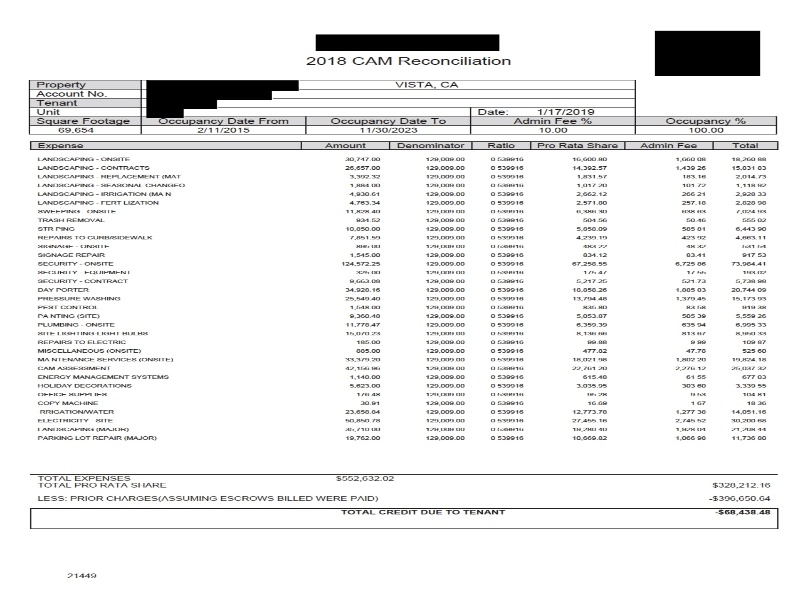table: (26, 139, 783, 535), (26, 76, 780, 140)
